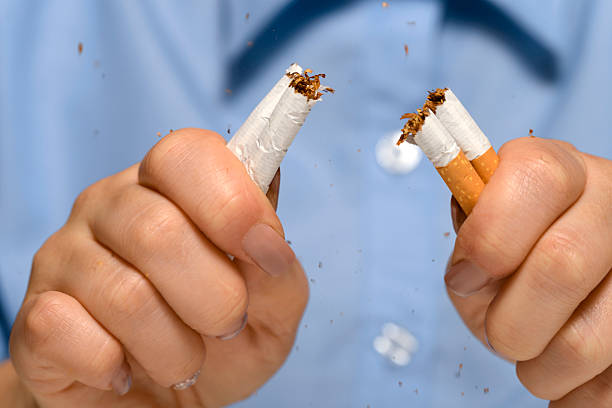cigarette: (243, 68, 324, 192), (403, 108, 486, 215), (223, 61, 303, 163), (424, 85, 501, 183)
